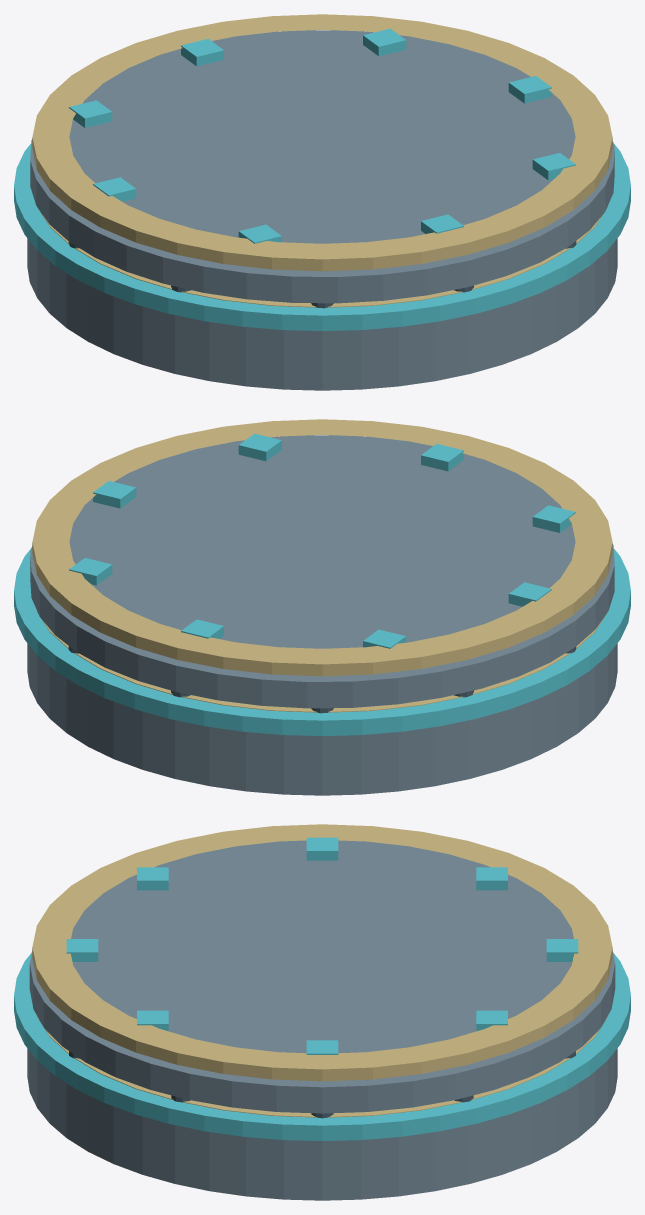
File: 25_L79_BaseWaferVacuumChuck.glb
3 views of the same model, one above another, from view 1: azimuth 30°, elevation 25°; view 2: azimuth 150°, elevation 25°; view 3: azimuth 270°, elevation 25° (orthographic).
Visible parts, largest first — view 1: BaseWaferVacuumChuck_Node_0014, BaseWaferVacuumChuck_Node_0000, BaseWaferVacuumChuck_Node_0015, BaseWaferVacuumChuck_Node_0001, BaseWaferVacuumChuck_Node_0025, BaseWaferVacuumChuck_Node_0023, BaseWaferVacuumChuck_Node_0016, BaseWaferVacuumChuck_Node_0022, BaseWaferVacuumChuck_Node_0021, BaseWaferVacuumChuck_Node_0017, BaseWaferVacuumChuck_Node_0020, BaseWaferVacuumChuck_Node_0018 (+1 smaller); view 2: BaseWaferVacuumChuck_Node_0014, BaseWaferVacuumChuck_Node_0000, BaseWaferVacuumChuck_Node_0015, BaseWaferVacuumChuck_Node_0001, BaseWaferVacuumChuck_Node_0025, BaseWaferVacuumChuck_Node_0017, BaseWaferVacuumChuck_Node_0016, BaseWaferVacuumChuck_Node_0018, BaseWaferVacuumChuck_Node_0019, BaseWaferVacuumChuck_Node_0023, BaseWaferVacuumChuck_Node_0020, BaseWaferVacuumChuck_Node_0022 (+1 smaller); view 3: BaseWaferVacuumChuck_Node_0014, BaseWaferVacuumChuck_Node_0000, BaseWaferVacuumChuck_Node_0015, BaseWaferVacuumChuck_Node_0001, BaseWaferVacuumChuck_Node_0025, BaseWaferVacuumChuck_Node_0020, BaseWaferVacuumChuck_Node_0019, BaseWaferVacuumChuck_Node_0021, BaseWaferVacuumChuck_Node_0018, BaseWaferVacuumChuck_Node_0022, BaseWaferVacuumChuck_Node_0017, BaseWaferVacuumChuck_Node_0023.
Part boxes in pixels (x1,y1,x2,y2): BaseWaferVacuumChuck_Node_0014: (30, 30, 614, 303); BaseWaferVacuumChuck_Node_0000: (27, 238, 617, 390); BaseWaferVacuumChuck_Node_0015: (32, 14, 612, 271); BaseWaferVacuumChuck_Node_0001: (14, 143, 630, 330); BaseWaferVacuumChuck_Node_0025: (39, 205, 608, 307); BaseWaferVacuumChuck_Node_0023: (363, 28, 406, 56); BaseWaferVacuumChuck_Node_0016: (508, 76, 551, 103); BaseWaferVacuumChuck_Node_0022: (181, 39, 223, 66); BaseWaferVacuumChuck_Node_0021: (69, 100, 112, 127); BaseWaferVacuumChuck_Node_0017: (532, 153, 575, 180); BaseWaferVacuumChuck_Node_0020: (93, 177, 136, 201); BaseWaferVacuumChuck_Node_0018: (421, 214, 463, 233); BaseWaferVacuumChuck_Node_0014: (30, 435, 614, 708); BaseWaferVacuumChuck_Node_0000: (27, 643, 617, 795); BaseWaferVacuumChuck_Node_0015: (32, 419, 612, 676); BaseWaferVacuumChuck_Node_0001: (14, 548, 630, 735); BaseWaferVacuumChuck_Node_0025: (36, 610, 605, 712); BaseWaferVacuumChuck_Node_0017: (238, 433, 281, 461); BaseWaferVacuumChuck_Node_0016: (93, 481, 136, 508); BaseWaferVacuumChuck_Node_0018: (421, 444, 463, 471); BaseWaferVacuumChuck_Node_0019: (532, 505, 575, 532); BaseWaferVacuumChuck_Node_0023: (69, 558, 112, 585); BaseWaferVacuumChuck_Node_0020: (508, 582, 551, 606); BaseWaferVacuumChuck_Node_0022: (181, 619, 223, 638); BaseWaferVacuumChuck_Node_0014: (29, 840, 615, 1113); BaseWaferVacuumChuck_Node_0000: (27, 1048, 617, 1200); BaseWaferVacuumChuck_Node_0015: (32, 824, 612, 1081); BaseWaferVacuumChuck_Node_0001: (14, 952, 630, 1140); BaseWaferVacuumChuck_Node_0025: (36, 1015, 608, 1117); BaseWaferVacuumChuck_Node_0020: (306, 837, 338, 860); BaseWaferVacuumChuck_Node_0019: (137, 867, 168, 890); BaseWaferVacuumChuck_Node_0021: (476, 867, 507, 890); BaseWaferVacuumChuck_Node_0018: (66, 939, 98, 961); BaseWaferVacuumChuck_Node_0022: (546, 939, 578, 961); BaseWaferVacuumChuck_Node_0017: (137, 1010, 168, 1031); BaseWaferVacuumChuck_Node_0023: (476, 1010, 507, 1031).
Bounding box in the file's own units: 2.34 × 0.545 × 2.34.
